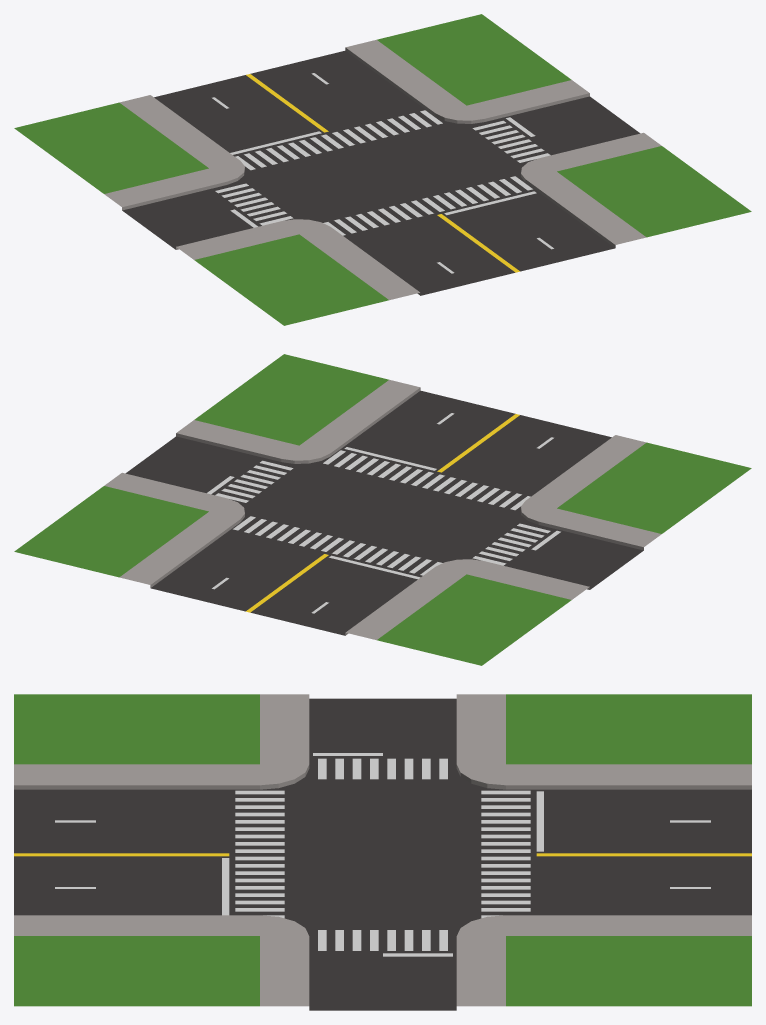
Rendered from tiles-nb_tile-road-mainroad-intersection-nb.fbx.
3 renders of one model, top to bottom at view 1: azimuth 30°, elevation 25°; view 2: azimuth 150°, elevation 25°; view 3: azimuth 270°, elevation 25°, orthographic. The views are drawn at different scales.
Visible parts, largest first — view 1: tiles_nb_tile_road_mainroad_intersection_nb; view 2: tiles_nb_tile_road_mainroad_intersection_nb; view 3: tiles_nb_tile_road_mainroad_intersection_nb.
Part boxes in pixels (x1,y1,x2,y2): tiles_nb_tile_road_mainroad_intersection_nb: (14, 14, 751, 325); tiles_nb_tile_road_mainroad_intersection_nb: (14, 354, 751, 665); tiles_nb_tile_road_mainroad_intersection_nb: (14, 694, 751, 1010).
Bounding box in the file's own units: 200 × 1.33 × 200.
